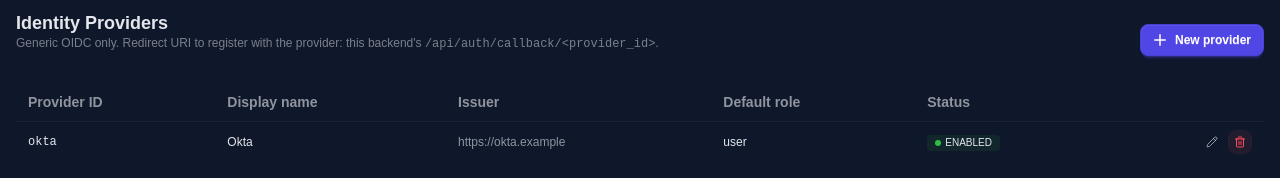
Test: deleting a provider asks first, then sends the request and refetches the list
Check: the cell "Okta" is shown, box [215, 122, 446, 162]
Cancelled: nothing is sent
Click the button named "Delete Okta" at (1240, 142), box [1228, 130, 1252, 154]
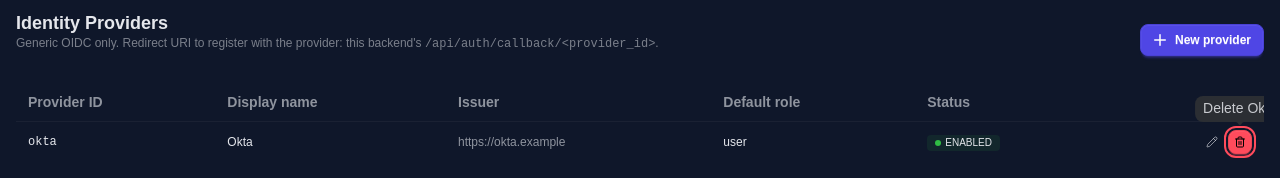
Click the button named "Delete Okta" at (1240, 142), box [1228, 130, 1252, 154]
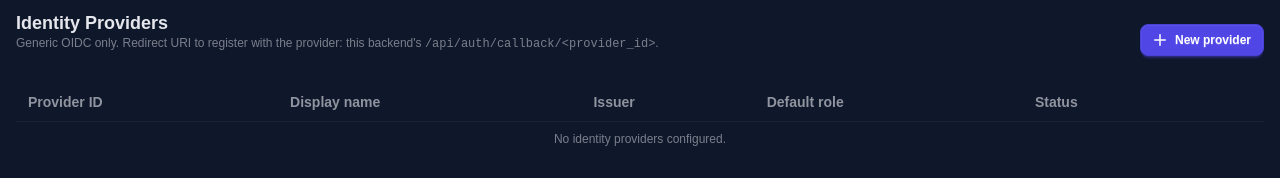
Check: the text "No identity providers configured." is shown, box [16, 122, 1264, 156]
